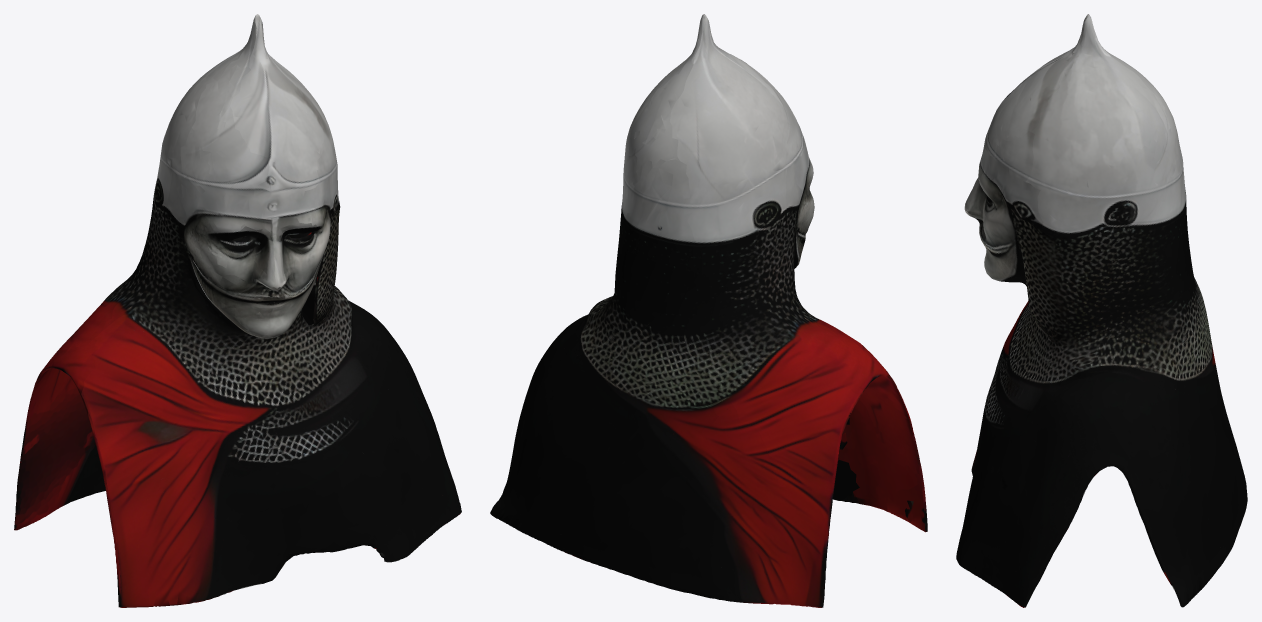
Rendered from kypchakh.glb.
3 views of the same model, side by side, from view 1: azimuth 30°, elevation 25°; view 2: azimuth 150°, elevation 25°; view 3: azimuth 270°, elevation 25° (orthographic).
Visible parts, largest first — view 1: textured_mesh; view 2: textured_mesh; view 3: textured_mesh.
Part boxes in pixels (x1,y1,x2,y2): textured_mesh: [14, 14, 461, 607]; textured_mesh: [490, 14, 927, 607]; textured_mesh: [956, 14, 1247, 607].
Size of the model in its own units: 1.44 by 1.99 by 1.03.
1 material, 1 textured.
